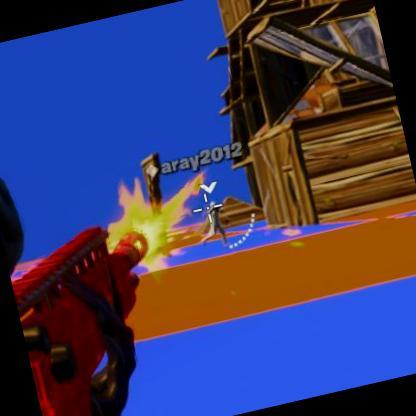person: (201, 192, 233, 244)
